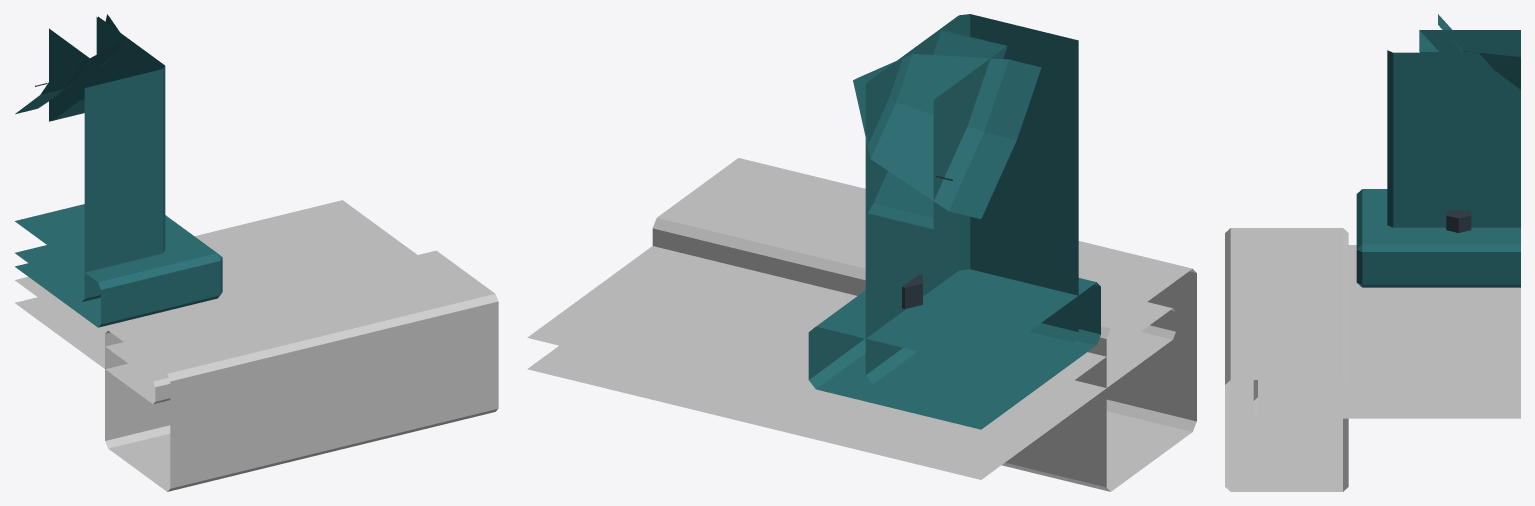
Rendered from cell_16.obj.
3 views of the same model, side by side, from view 1: azimuth 30°, elevation 25°; view 2: azimuth 150°, elevation 25°; view 3: azimuth 270°, elevation 25° (orthographic). The views are drawn at different scales.
Size of the model in its own units: 1 by 1 by 0.8225.
